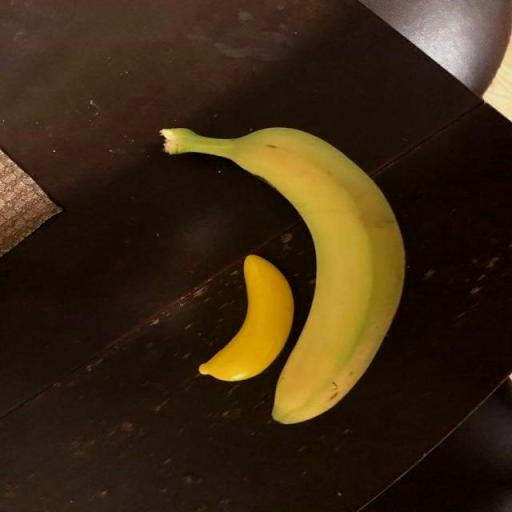fruit: (161, 128, 403, 423), (199, 255, 292, 380)
